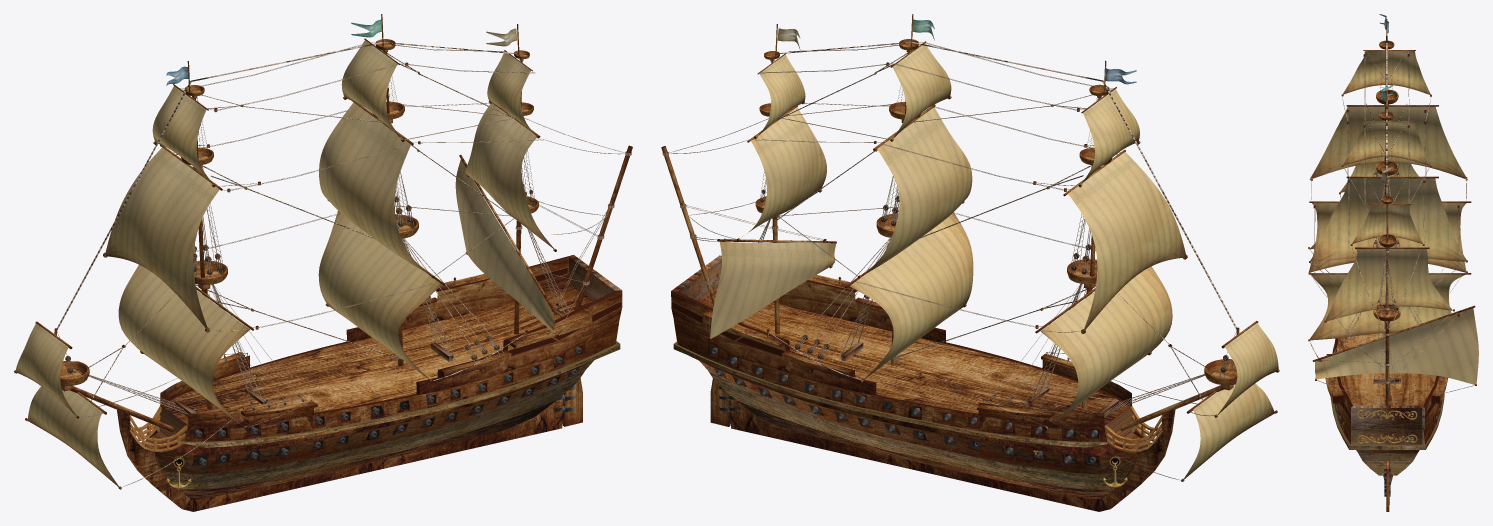
The model's file is ship_r_optimized.glb.
3 views of the same model, side by side, from view 1: azimuth 30°, elevation 25°; view 2: azimuth 150°, elevation 25°; view 3: azimuth 270°, elevation 25° (orthographic). The views are drawn at different scales.
Visible parts, largest first — view 1: Object_30, Object_33, Object_7, Object_16, Object_39, Object_36, Object_40, Object_32, Object_17, Object_31; view 2: Object_30, Object_33, Object_7, Object_16, Object_39, Object_36, Object_40, Object_32, Object_31, Object_17; view 3: Object_30, Object_33, Object_7, Object_39, Object_16, Object_6, Object_40.
Boxes of the visible parts, x1,y1,x2,y2 form: Object_30: [15, 40, 555, 486]; Object_33: [14, 14, 632, 511]; Object_7: [57, 42, 631, 487]; Object_16: [156, 341, 620, 493]; Object_39: [145, 255, 621, 477]; Object_36: [178, 400, 556, 499]; Object_40: [193, 347, 581, 466]; Object_32: [129, 406, 187, 452]; Object_17: [65, 184, 534, 410]; Object_31: [193, 365, 577, 464]; Object_30: [710, 43, 1278, 479]; Object_33: [661, 14, 1279, 511]; Object_7: [662, 42, 1236, 480]; Object_16: [673, 341, 1136, 496]; Object_39: [671, 255, 1145, 478]; Object_36: [737, 400, 1112, 499]; Object_40: [711, 347, 1097, 463]; Object_32: [1104, 406, 1162, 452]; Object_31: [710, 346, 1099, 464]; Object_17: [760, 189, 1233, 409]; Object_30: [1309, 51, 1478, 384]; Object_33: [1308, 19, 1476, 511]; Object_7: [1309, 36, 1474, 405]; Object_39: [1351, 378, 1424, 453]; Object_16: [1330, 345, 1444, 475]; Object_6: [1357, 410, 1417, 443]; Object_40: [1333, 349, 1442, 496].
Bounding box in the file's own units: 16.12 × 11.81 × 5.26.
Materials: 15 (15 with a texture image).
